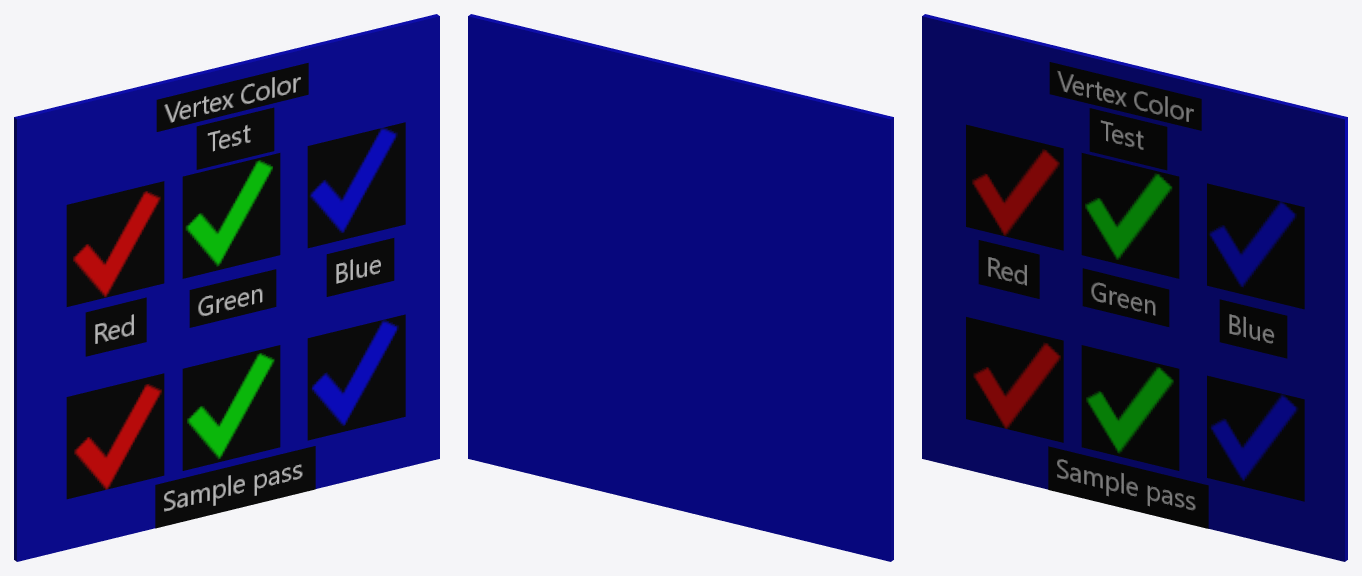
The model's file is VertexColorTest.gltf.
The picture shows the model from 3 angles, left to right: view 1: azimuth 30°, elevation 25°; view 2: azimuth 150°, elevation 25°; view 3: azimuth 330°, elevation 25°; orthographic projection.
Parts seen in each view (by area): view 1: VertexColorTest, Labels; view 2: VertexColorTest; view 3: VertexColorTest, Labels.
Boxes of the visible parts, x1,y1,x2,y2 form: VertexColorTest: (14, 14, 439, 561); Labels: (85, 63, 394, 528); VertexColorTest: (468, 14, 893, 561); VertexColorTest: (922, 14, 1347, 561); Labels: (978, 62, 1287, 528).
Size of the model in its own units: 2 by 2 by 0.0741.
Materials: 2 (2 with a texture image).
